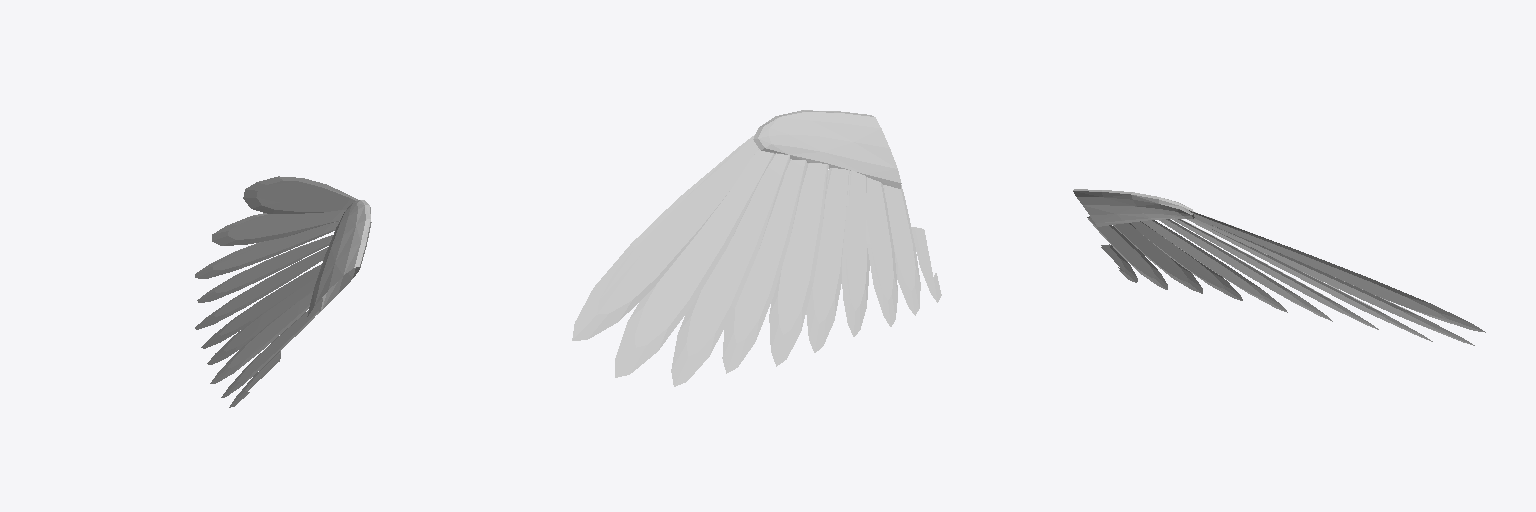
The model's file is pajaro1izq.obj.
3 views of the same model, side by side, from view 1: azimuth 30°, elevation 25°; view 2: azimuth 150°, elevation 25°; view 3: azimuth 270°, elevation 25° (orthographic).
Visible parts, largest first — view 1: Cube.001_Cube.001; view 2: Cube.001_Cube.001; view 3: Cube.001_Cube.001.
Part boxes in pixels (bbox=[...]): Cube.001_Cube.001: bbox=[195, 176, 371, 407]; Cube.001_Cube.001: bbox=[572, 110, 941, 386]; Cube.001_Cube.001: bbox=[1073, 189, 1485, 345].
Size of the model in its own units: 0.9239 by 0.743 by 1.68.